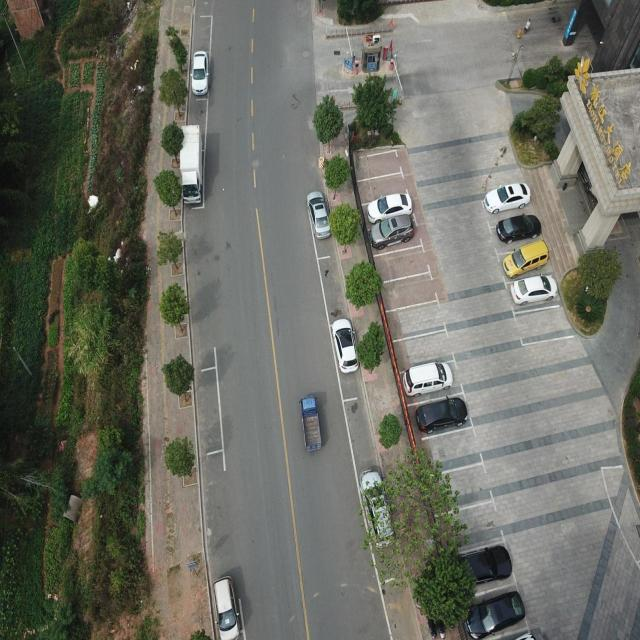p3rson: (524, 19, 530, 33), (636, 322, 640, 342)
